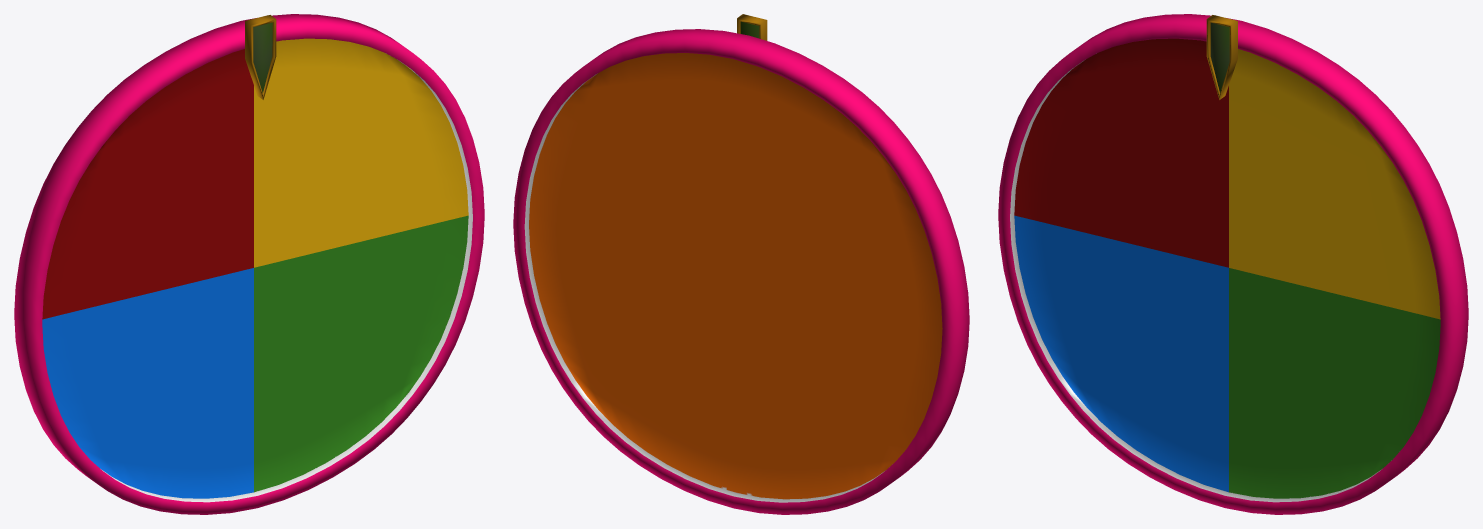
File: Disc.fbx
3 views of the same model, side by side, from view 1: azimuth 30°, elevation 25°; view 2: azimuth 150°, elevation 25°; view 3: azimuth 330°, elevation 25° (orthographic). The views are drawn at different scales.
Parts seen in each view (by area): view 1: Disc, Point1, Point; view 2: Disc; view 3: Disc, Point1, Point.
Boxes of the visible parts, bbox=[...] form: Disc: bbox=[14, 14, 484, 514]; Point1: bbox=[245, 15, 276, 99]; Point: bbox=[253, 22, 272, 92]; Disc: bbox=[513, 29, 969, 514]; Disc: bbox=[998, 14, 1468, 514]; Point1: bbox=[1206, 15, 1237, 99]; Point: bbox=[1210, 22, 1229, 92].
Bounding box in the file's own units: 273 × 281 × 23.03.
